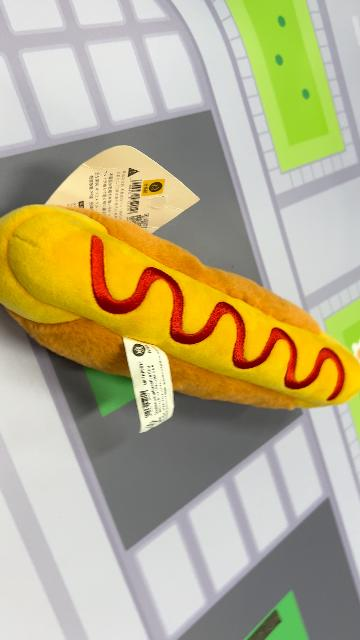hotdog: (1, 203, 358, 413)
